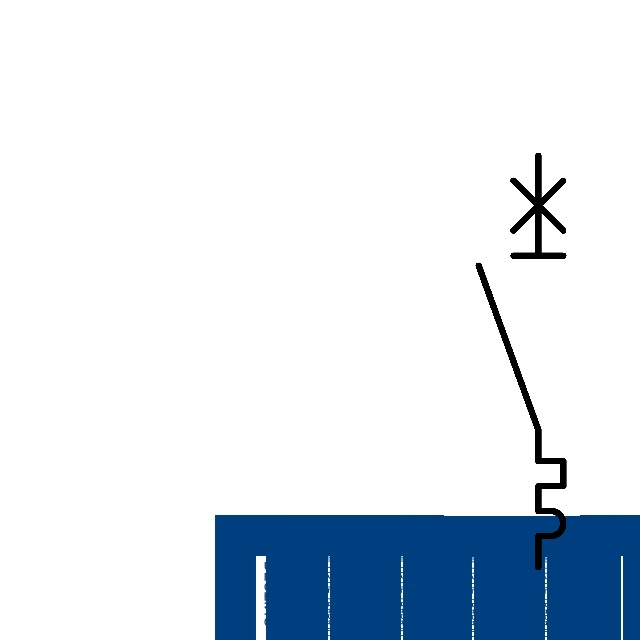interruptor_termomagnetico: (468, 145, 574, 578)
